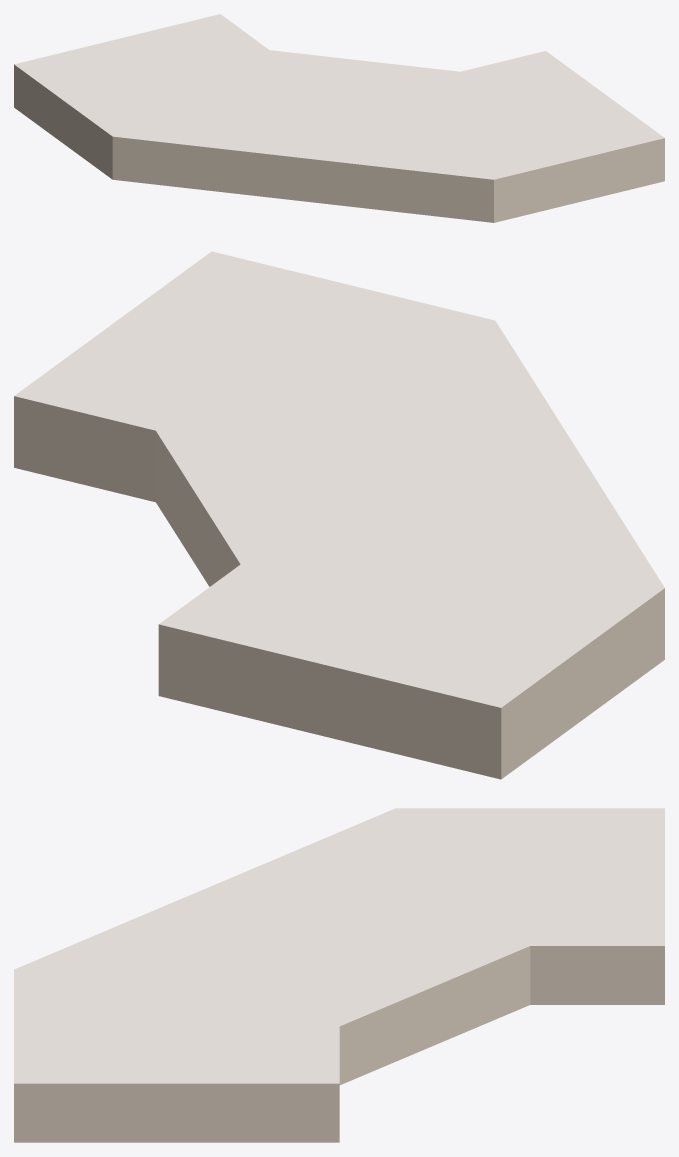
3 renders of one model, top to bottom at view 1: azimuth 30°, elevation 25°; view 2: azimuth 150°, elevation 25°; view 3: azimuth 270°, elevation 25°, orthographic. The views are drawn at different scales.
Visible parts, largest first — view 1: object1.001; view 2: object1.001; view 3: object1.001.
Part boxes in pixels (x1=…): object1.001: x1=14, y1=14, x2=664, y2=222; object1.001: x1=14, y1=251, x2=664, y2=779; object1.001: x1=14, y1=808, x2=664, y2=1142.
Size of the model in its own units: 2 by 0.2 by 2.
